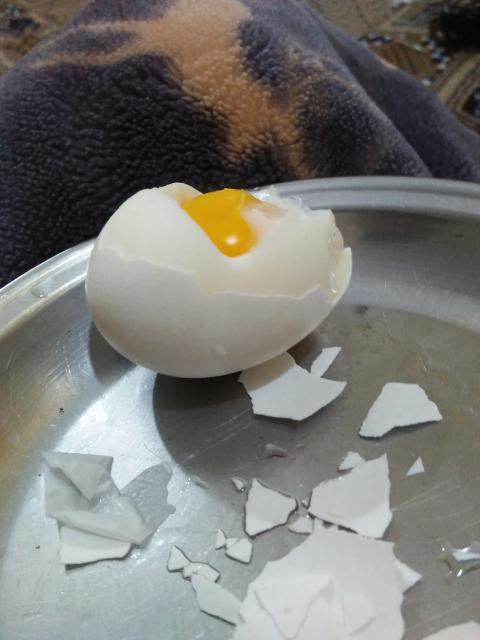Roto: (84, 180, 353, 379)
